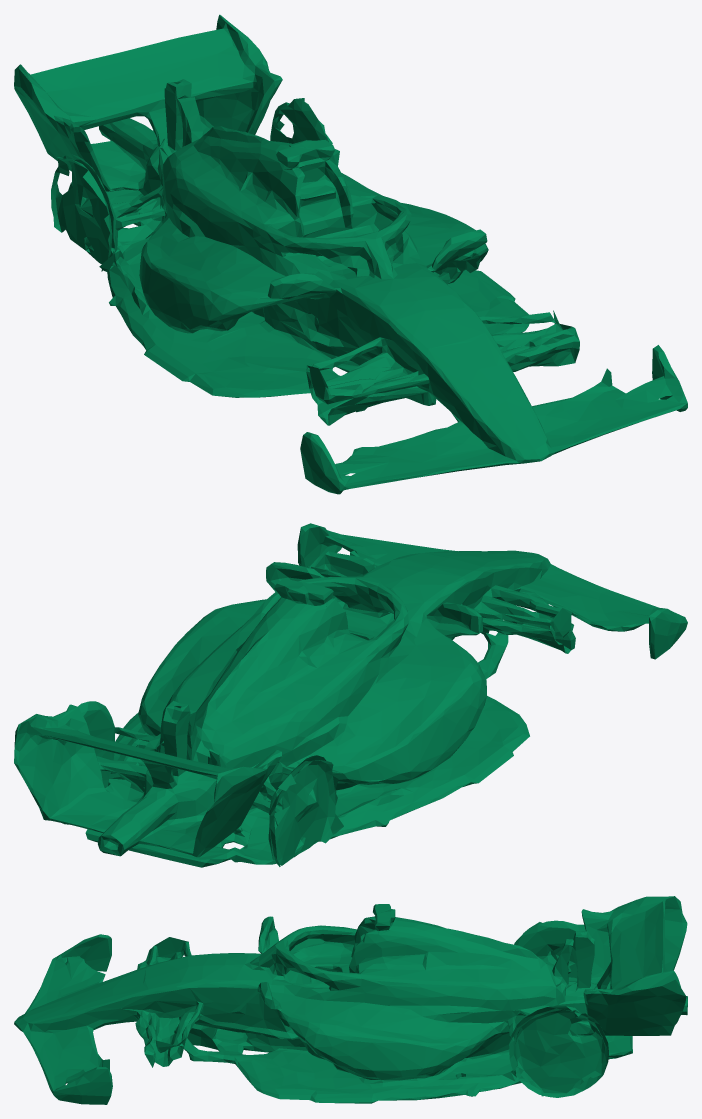
The model's file is alonsoAMvPL.glb.
The picture shows the model from 3 angles, top to bottom: view 1: azimuth 30°, elevation 25°; view 2: azimuth 150°, elevation 25°; view 3: azimuth 270°, elevation 25°; orthographic projection. The views are drawn at different scales.
Parts seen in each view (by area): view 1: geometry_0; view 2: geometry_0; view 3: geometry_0.
Part boxes in pixels (x1=…): geometry_0: x1=14, y1=14, x2=687, y2=494; geometry_0: x1=14, y1=523, x2=687, y2=867; geometry_0: x1=14, y1=896, x2=687, y2=1104.
Bounding box in the file's own units: 2.41 × 1.17 × 5.
